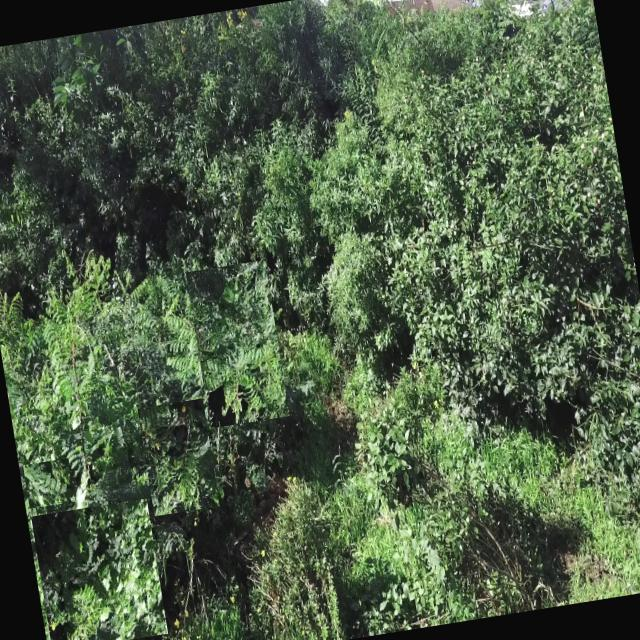Mysore-Thorn-Weed: (26, 244, 130, 482), (31, 498, 168, 640), (186, 260, 290, 428), (138, 398, 220, 516), (100, 266, 164, 372), (0, 284, 37, 361), (23, 458, 75, 509)
